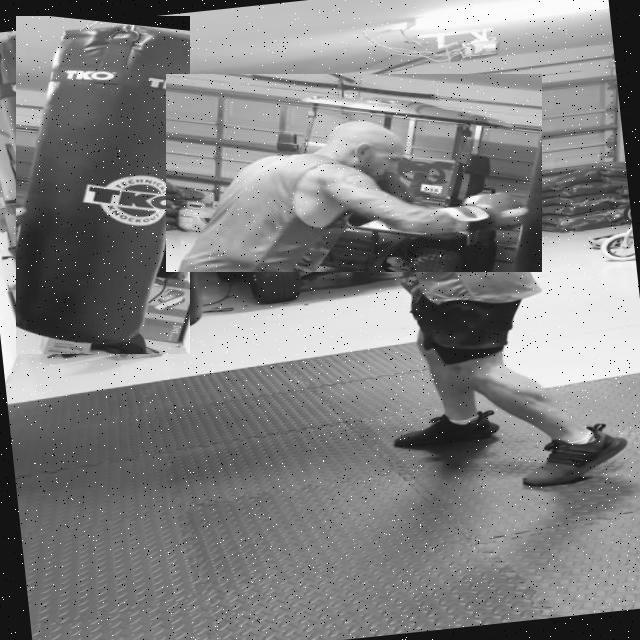punch: (166, 74, 542, 272)
